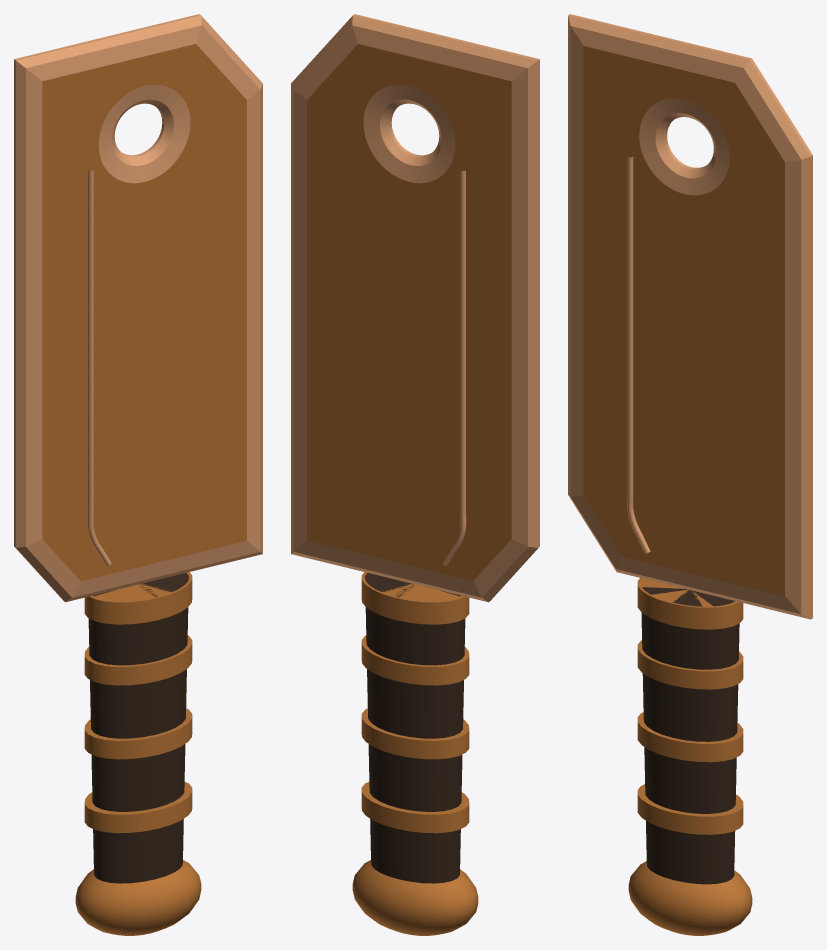
Rendered from 15_Uncommon_Copper_Cleaver.glb.
The picture shows the model from 3 angles, left to right: view 1: azimuth 30°, elevation 25°; view 2: azimuth 150°, elevation 25°; view 3: azimuth 330°, elevation 25°; orthographic projection.
Parts seen in each view (by area): view 1: blade_0, handle_1, pommel_6, ferrule_5, handle_band_4, handle_band_3, blade_inlay_8, handle_band_2; view 2: blade_0, handle_1, pommel_6, ferrule_5, handle_band_4, handle_band_3, blade_inlay_7, handle_band_2; view 3: blade_0, handle_1, pommel_6, ferrule_5, blade_inlay_8, handle_band_4, handle_band_3, handle_band_2.
Boxes of the visible parts, x1,y1,x2,y2 form: blade_0: (14,14,262,602); handle_1: (88,573,188,883); pommel_6: (75,860,201,935); ferrule_5: (84,572,192,624); handle_band_4: (84,782,192,833); handle_band_3: (84,708,192,759); blade_inlay_8: (87,170,111,566); handle_band_2: (84,635,192,685); blade_0: (291,14,539,602); handle_1: (365,573,465,883); pommel_6: (352,860,478,935); ferrule_5: (361,572,469,624); handle_band_4: (361,782,469,833); handle_band_3: (361,708,469,759); blade_inlay_7: (442,170,466,566); handle_band_2: (361,635,469,685); blade_0: (568,14,812,619); handle_1: (641,587,739,884); pommel_6: (628,861,752,935); ferrule_5: (637,578,743,629); blade_inlay_8: (627,156,650,553); handle_band_4: (637,784,743,834); handle_band_3: (637,712,743,762); handle_band_2: (637,640,743,689).
Size of the model in its own units: 0.14 by 0.4874 by 0.0472.
Materials: 7 (7 with a texture image).
